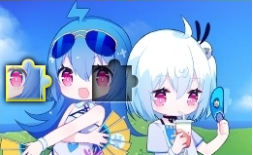gap: (92, 59, 138, 102)
